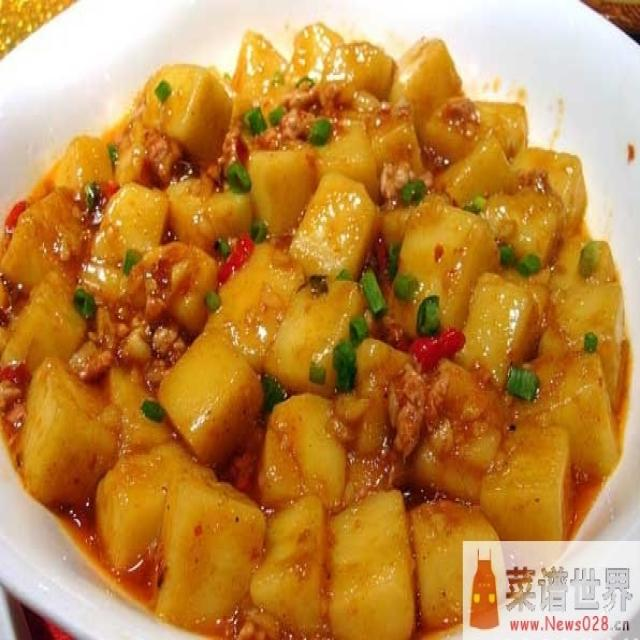豆腐料理: (15, 10, 625, 622)
